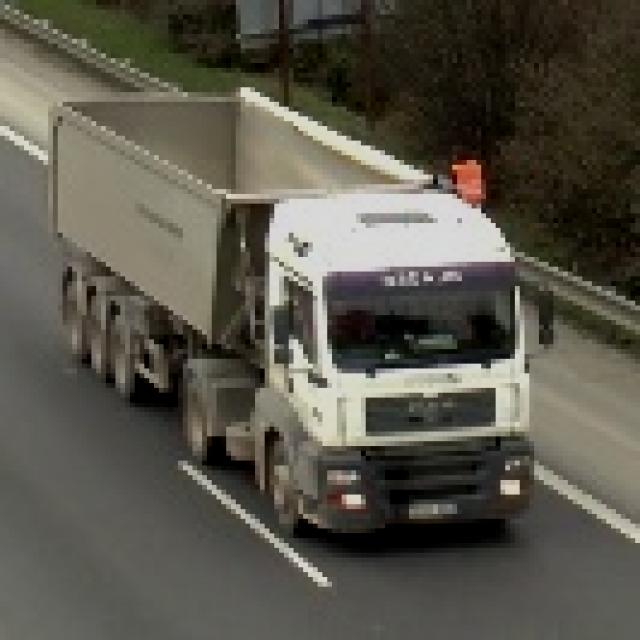TRUCK: (31, 94, 544, 546)
